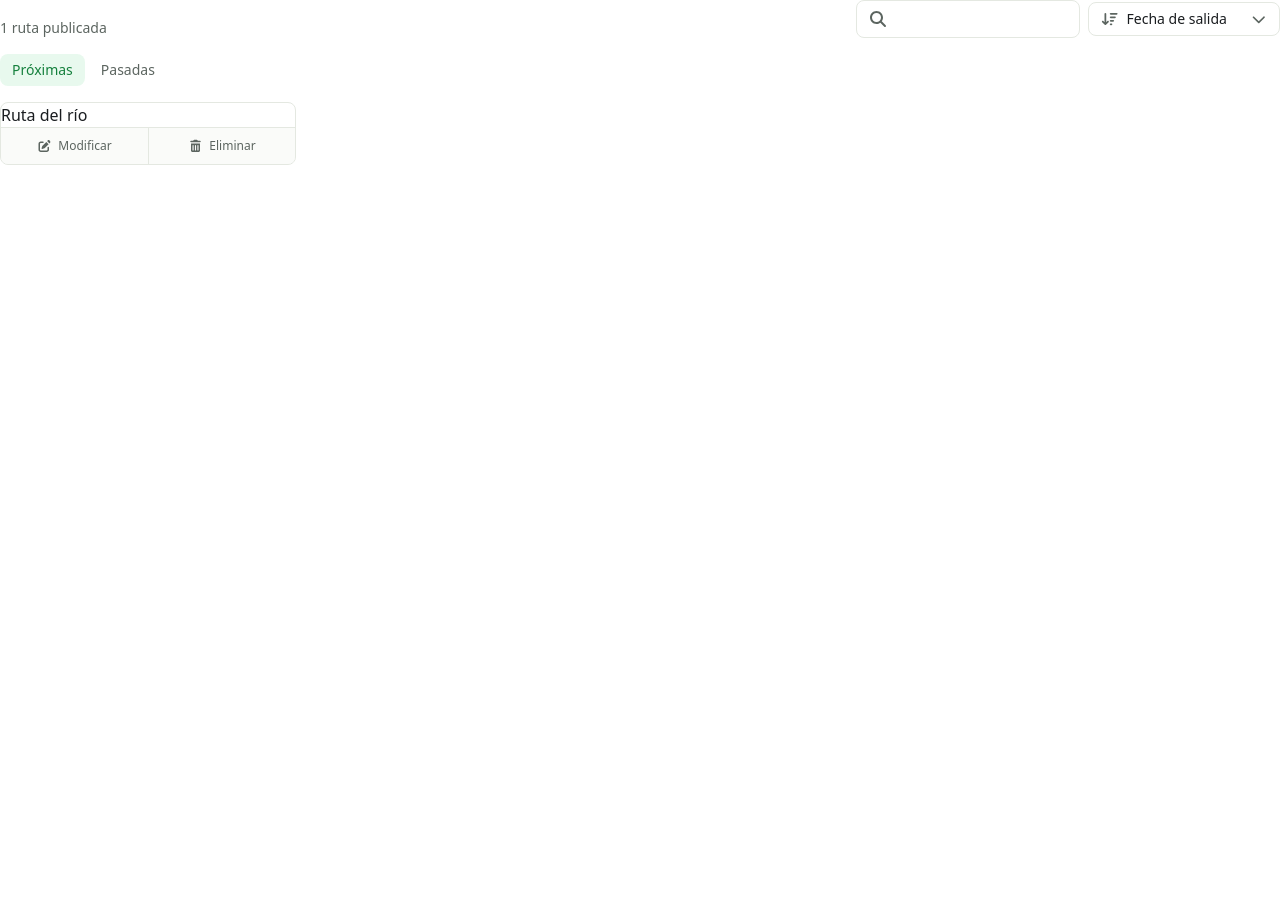
Test case: ProfileMyRidesTab › surfaces an error when the ride deletion fails
What coordinates should you click on to do the following:
click the button "Eliminar"
I would click on:
 (222, 146)
Its box is [148,128,295,164].
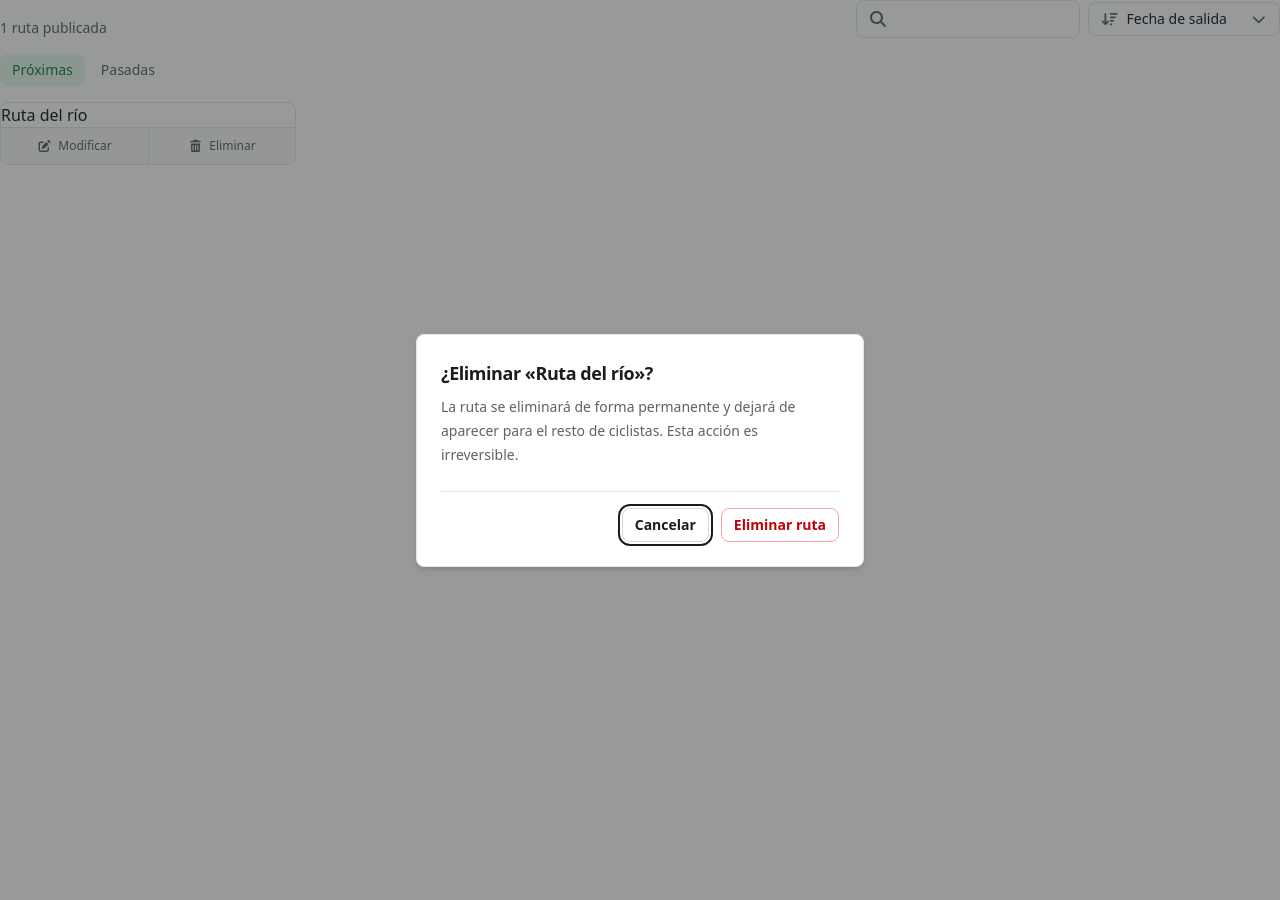
Check: the button "Eliminar ruta" is shown
What coordinates should you click on to do the following:
click the button "Eliminar ruta"
I would click on:
 (780, 524)
Its box is [721,508,839,542].
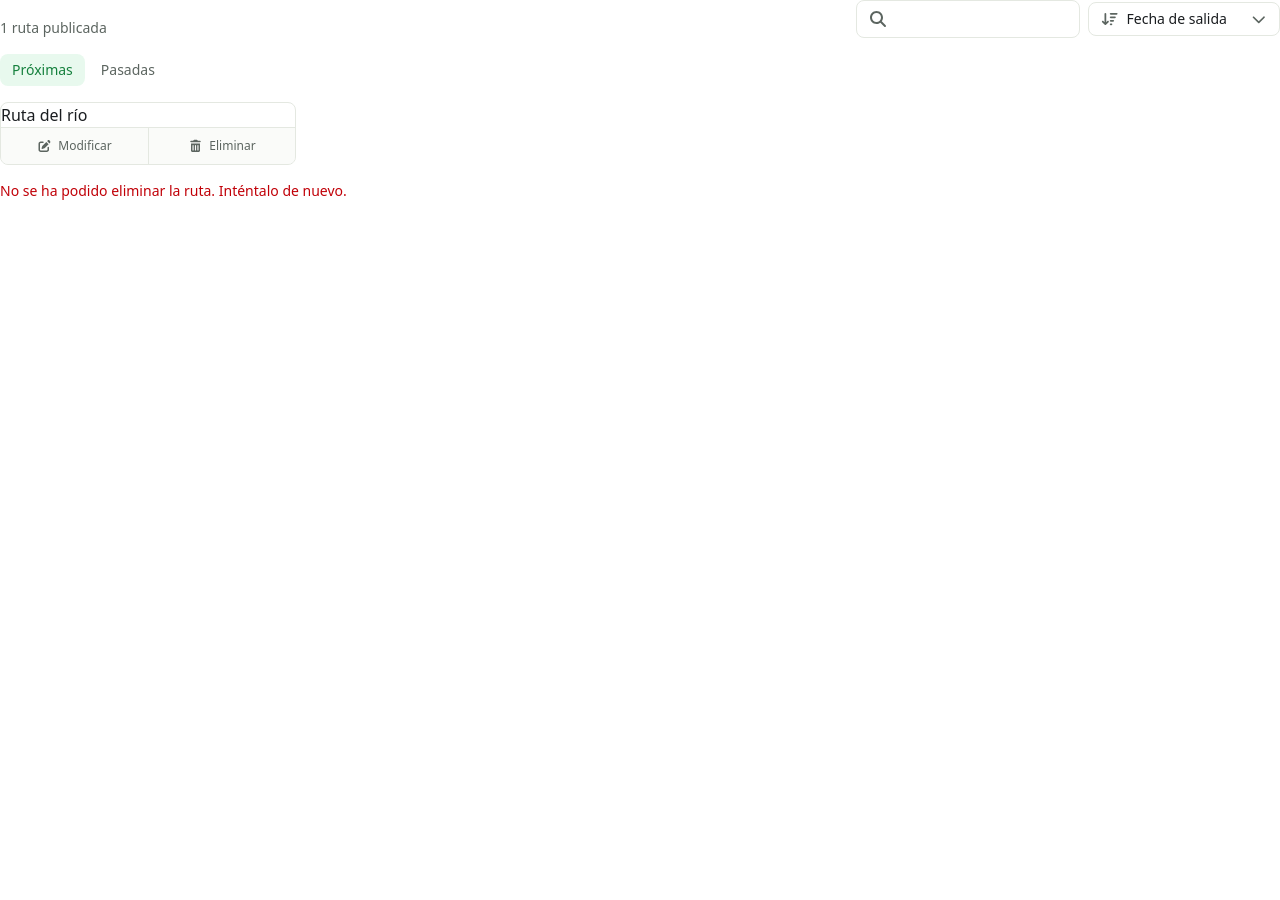
Check: the text "No se ha podido eliminar la ruta" is shown, box [0,181,347,200]
